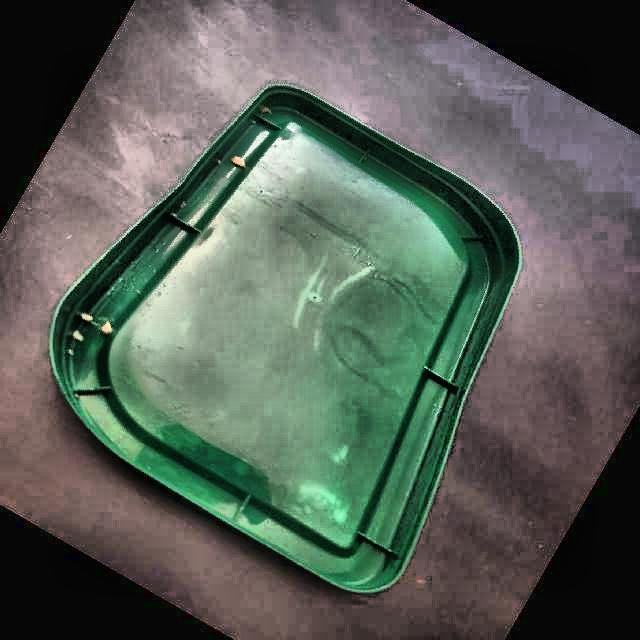plastic: (51, 86, 519, 592)
